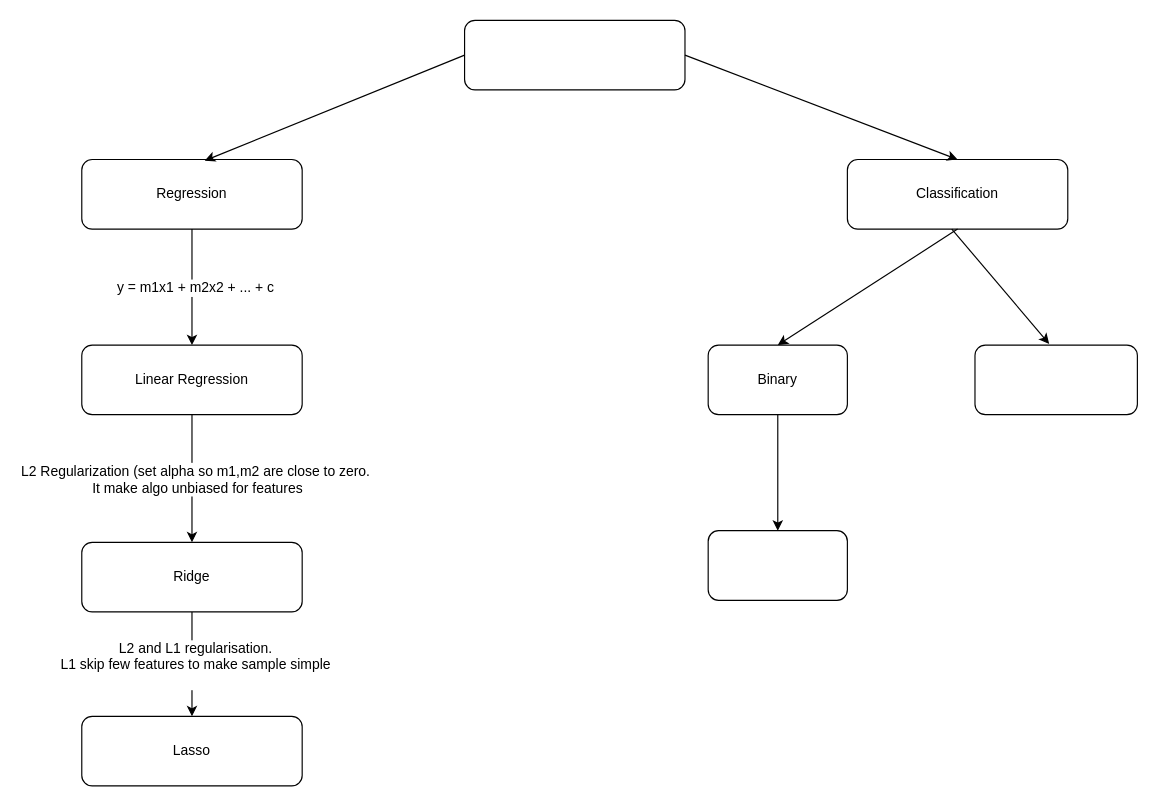
The diagram is 1158 pixels wide and 806 high, and some of its shapes have lost their labels. Here are the shapes that lost their labels. From the top down, the centre of each, then its label:
point 574,54: Linear Model
point 1055,379: Multi
point 777,565: Logistic Regression
